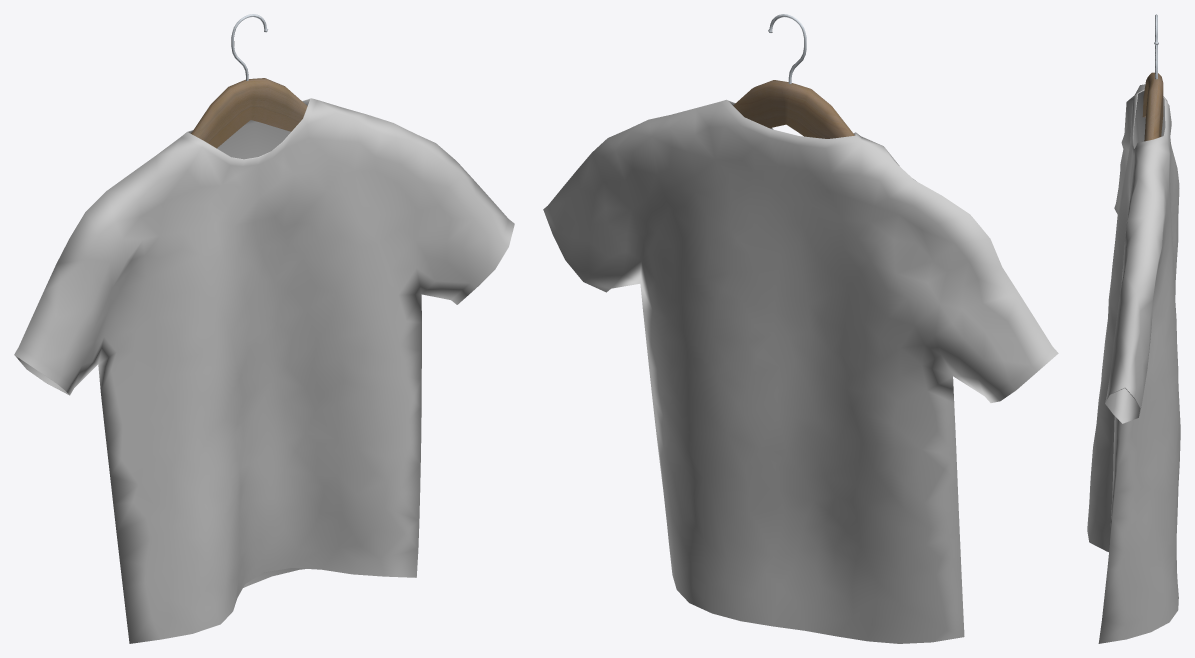
The model's file is Shirt on Hanger.fbx.
The picture shows the model from 3 angles, left to right: view 1: azimuth 30°, elevation 25°; view 2: azimuth 150°, elevation 25°; view 3: azimuth 270°, elevation 25°; orthographic projection. The views are drawn at different scales.
Visible parts, largest first — view 1: ShirtOnHanger; view 2: ShirtOnHanger; view 3: ShirtOnHanger.
Boxes of the visible parts, x1=… form: ShirtOnHanger: x1=14, y1=14, x2=514, y2=643; ShirtOnHanger: x1=543, y1=14, x2=1058, y2=643; ShirtOnHanger: x1=1087, y1=14, x2=1180, y2=643.
Bounding box in the file's own units: 0.5135 × 0.5739 × 0.0858.
